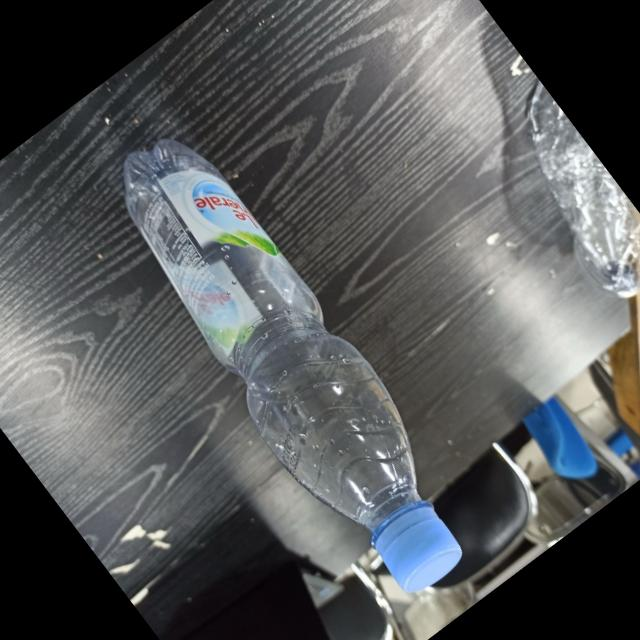BotolPlastik: (78, 114, 502, 616)
